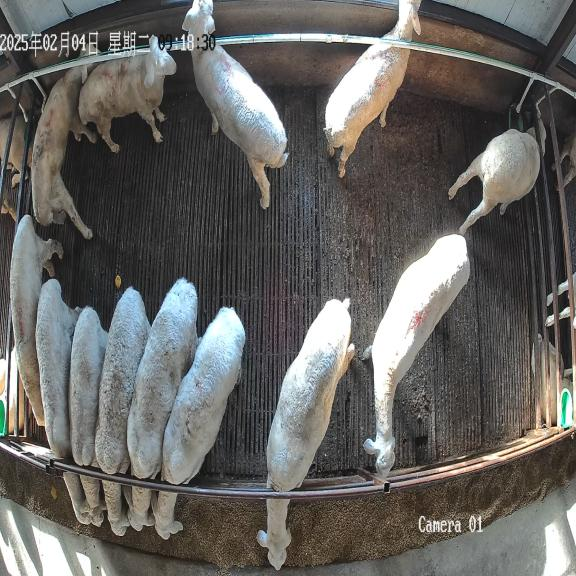drinking: (448, 120, 548, 234)
eating: (265, 298, 355, 572), (153, 307, 245, 546), (127, 278, 198, 531), (95, 287, 150, 539), (36, 280, 91, 522), (68, 307, 108, 527)
stand: (363, 234, 470, 478), (182, 0, 288, 208), (323, 0, 421, 178), (31, 44, 103, 238), (78, 35, 176, 152), (10, 215, 63, 426)
